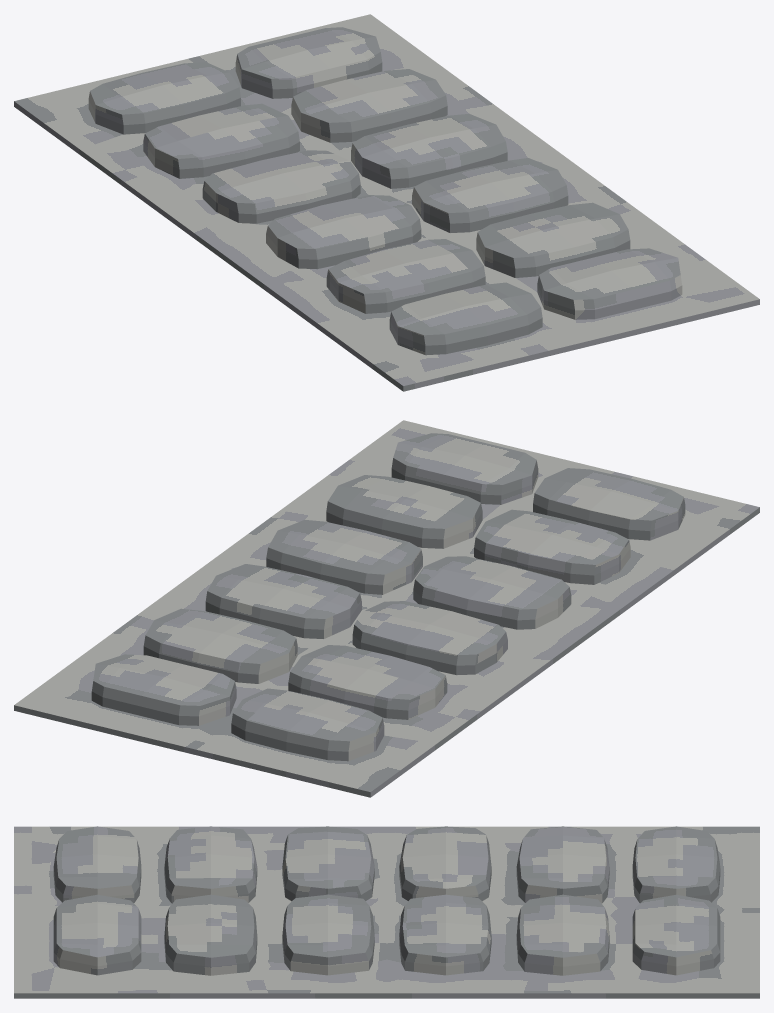
File: Medicine panel1.1.fbx
3 renders of one model, top to bottom at view 1: azimuth 30°, elevation 25°; view 2: azimuth 150°, elevation 25°; view 3: azimuth 270°, elevation 25°, orthographic. The views are drawn at different scales.
Parts seen in each view (by area): view 1: Cube.004; view 2: Cube.004; view 3: Cube.004.
Boxes of the visible parts, x1,y1,x2,y2 form: Cube.004: (14, 14, 759, 391); Cube.004: (14, 420, 759, 797); Cube.004: (14, 826, 759, 998).
Bounding box in the file's own units: 253 × 18.83 × 479.
Materials: 1 (1 with a texture image).
